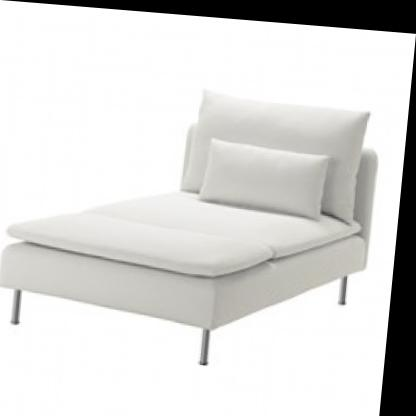Sofa: (0, 48, 389, 388)
